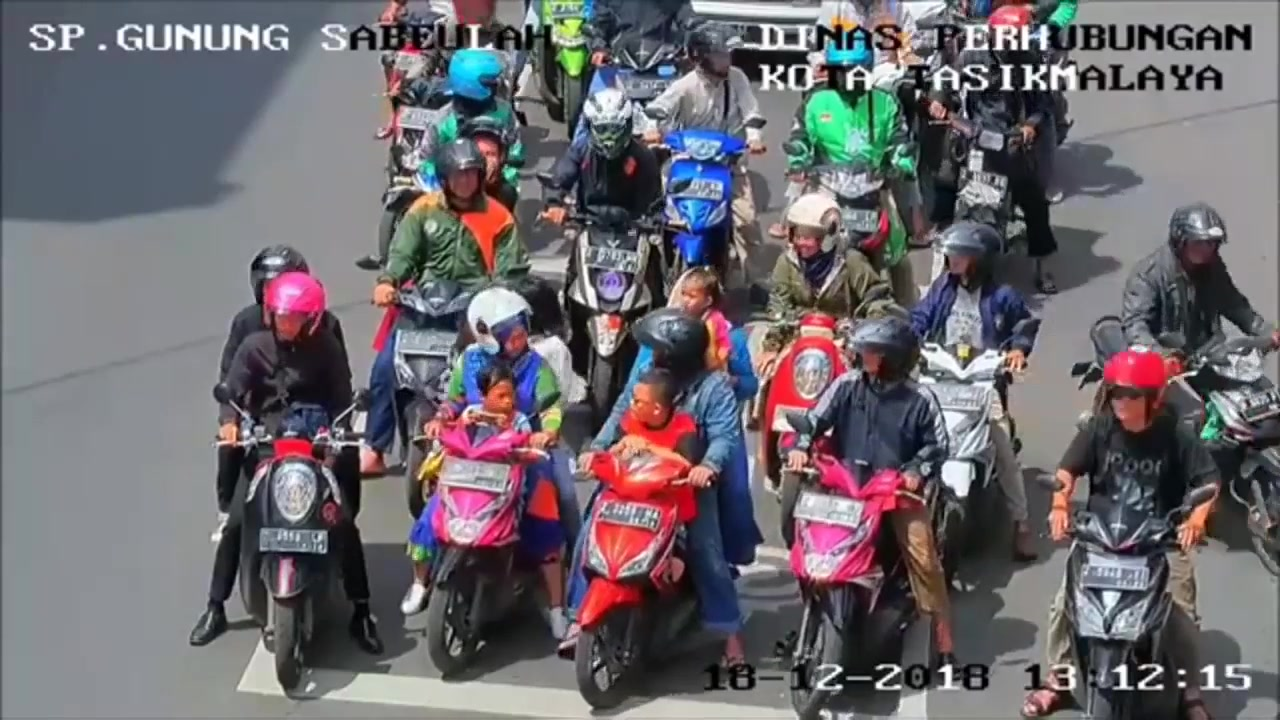person with helmet: (1143, 195, 1243, 293), (578, 76, 646, 182)
person with motorcycle: (1125, 186, 1280, 473), (559, 83, 665, 346)
